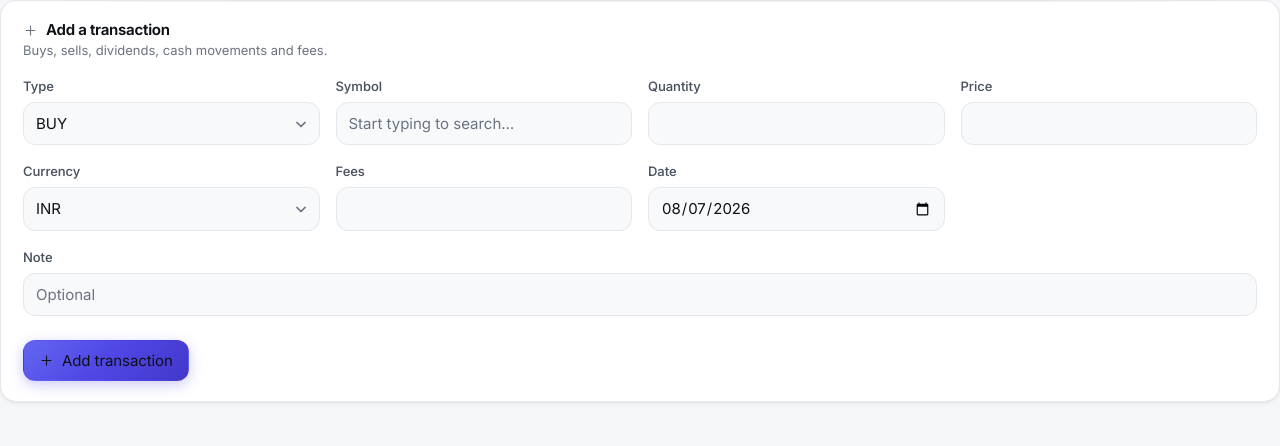
AddTransactionForm › puts a currency mismatch against the currency field
Select "SELL" in the dropdown labelled "Type". click: (171, 124)
box: [23,102,320,145]
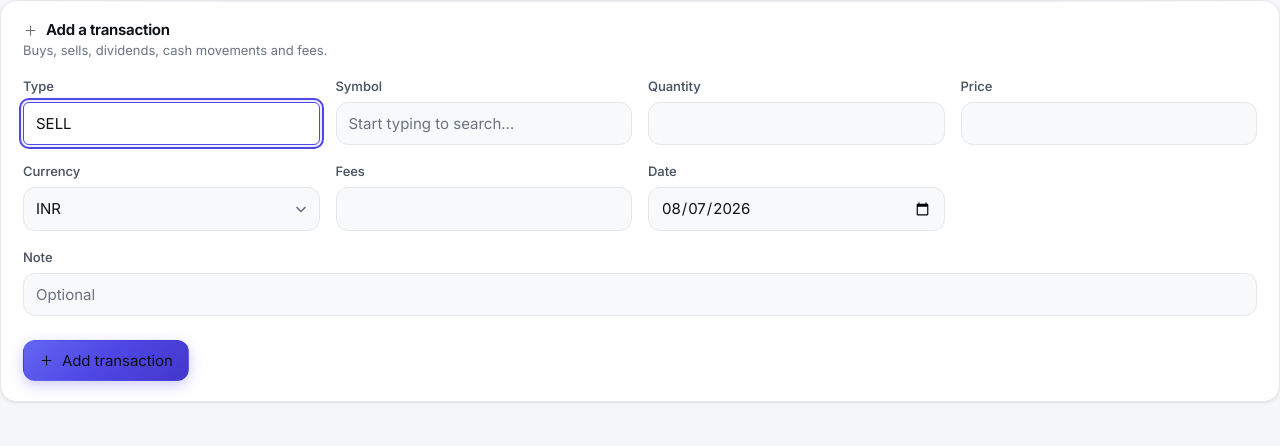
Type "AAPL" into the dropdown labelled "Symbol". click: (484, 124)
box: [336,102,632,145]
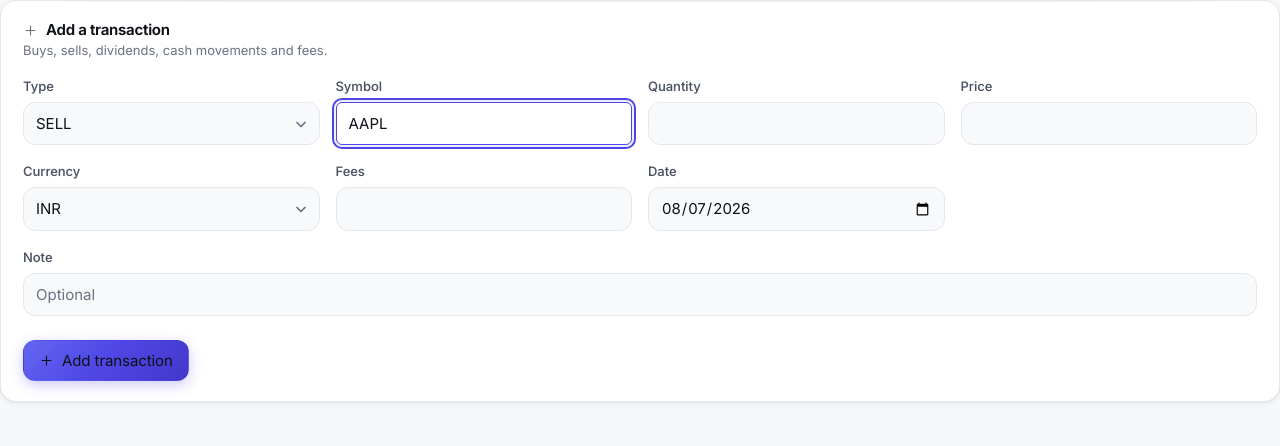
Type "50" into the field labelled "Quantity". click: (796, 124)
box: [648,102,944,145]
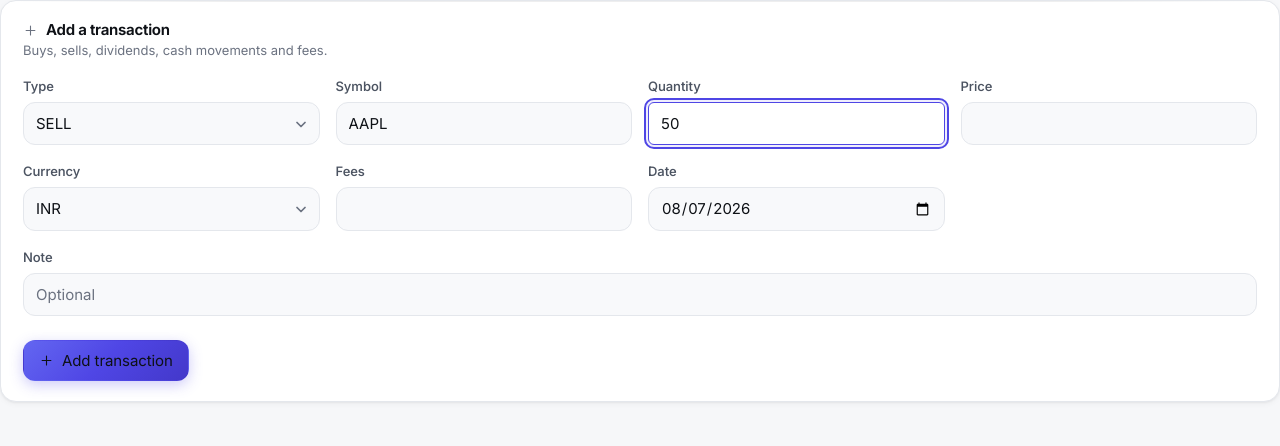
Type "228.10" into the field labelled "Price". click: (1109, 124)
box: [960,102,1257,145]
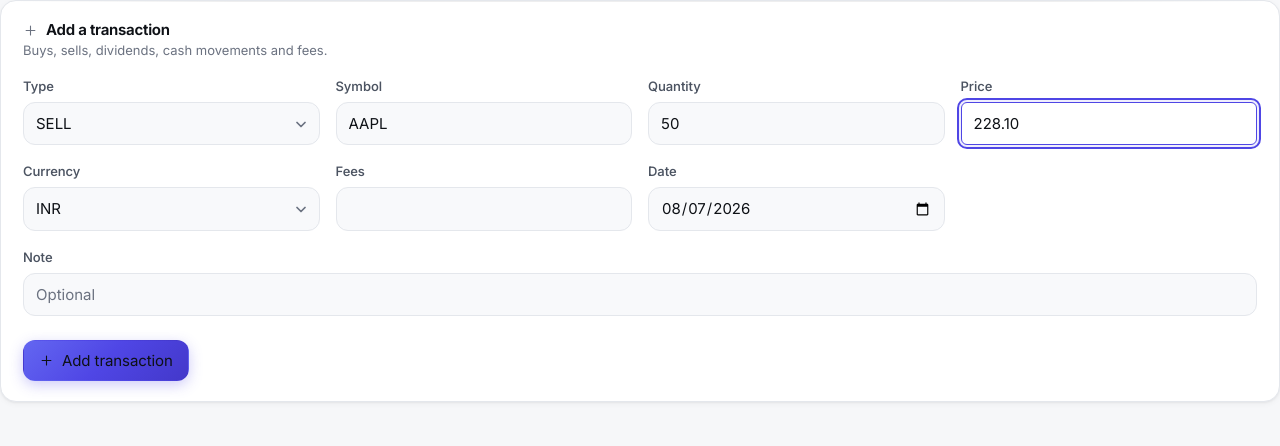
Click the button "Add transaction". click: (106, 361)
box: [23,340,189,381]
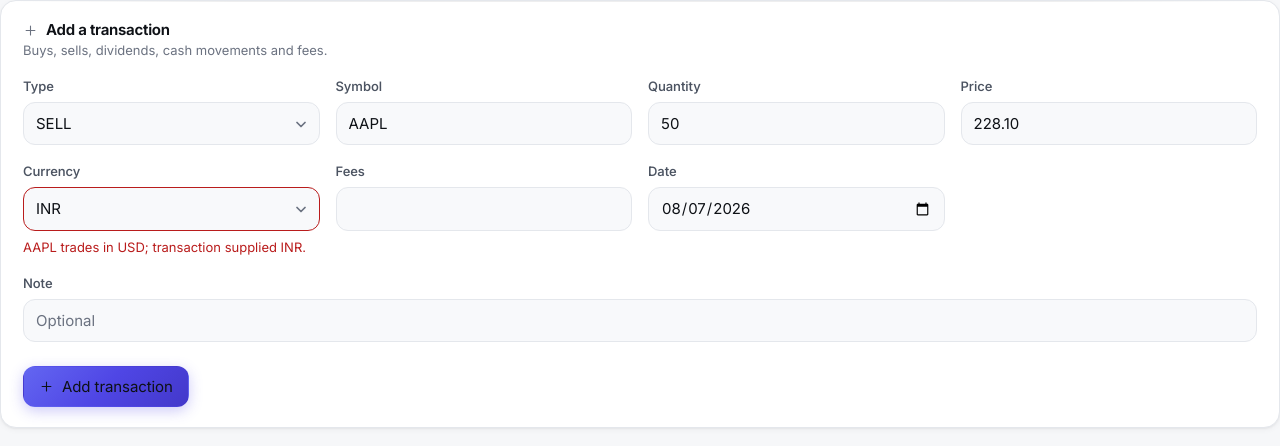
Expected: the message reads "AAPL trades in USD; transaction supplied INR.", [23,239,306,255]
